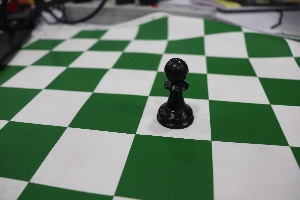black_pawn: (149, 48, 199, 132)
